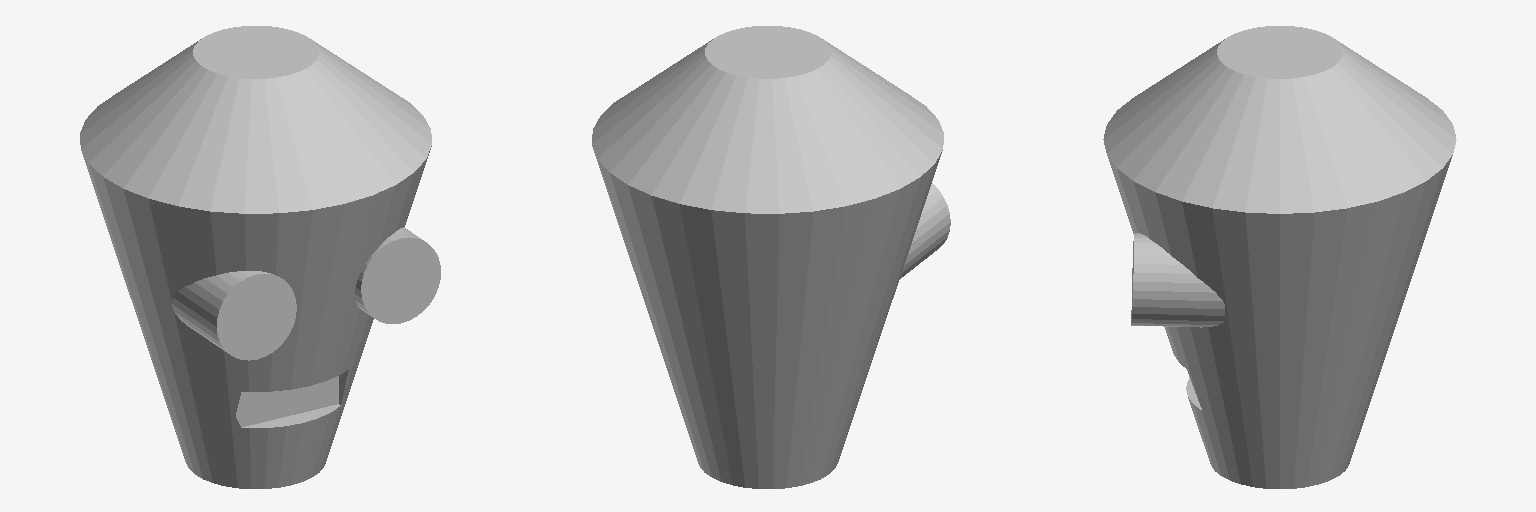
The model's file is thin_ghost.obj.
The picture shows the model from 3 angles: view 1: azimuth 30°, elevation 25°; view 2: azimuth 150°, elevation 25°; view 3: azimuth 270°, elevation 25°; orthographic projection.
Visible parts, largest first — view 1: thin_ghost_body_Cylinder.001; view 2: thin_ghost_body_Cylinder.001; view 3: thin_ghost_body_Cylinder.001.
Part boxes in pixels (bbox=[...]): thin_ghost_body_Cylinder.001: bbox=[80, 26, 440, 488]; thin_ghost_body_Cylinder.001: bbox=[592, 26, 950, 488]; thin_ghost_body_Cylinder.001: bbox=[1103, 26, 1456, 488].
Bounding box in the file's own units: 2 × 2.54 × 2.